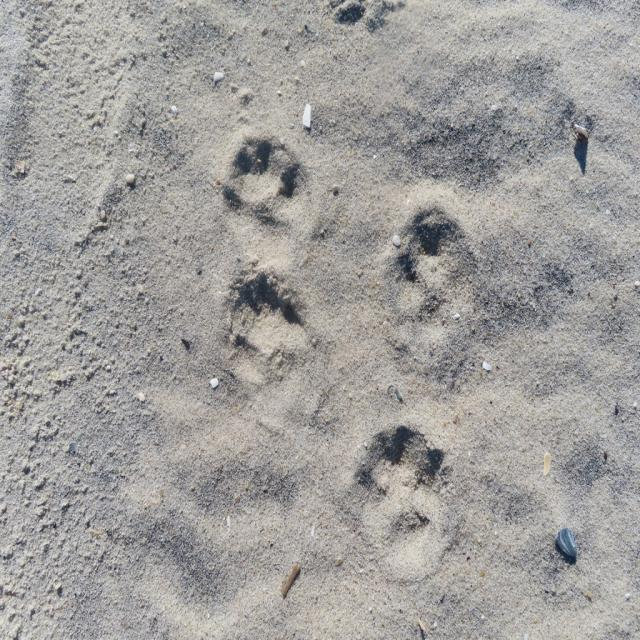canid: (214, 136, 326, 271), (358, 421, 454, 574), (215, 281, 315, 420), (392, 215, 480, 352)
